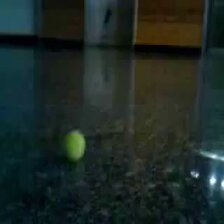tennis: (63, 128, 85, 161)
